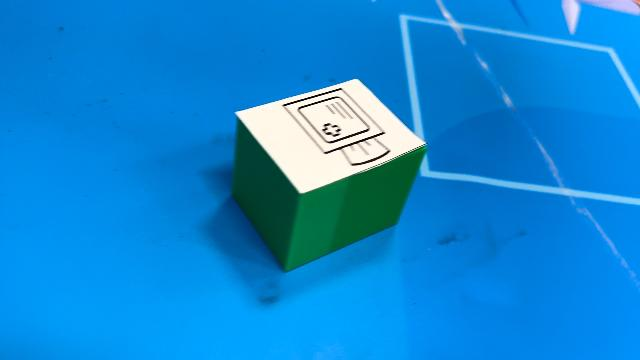napkin: (230, 75, 430, 272)
